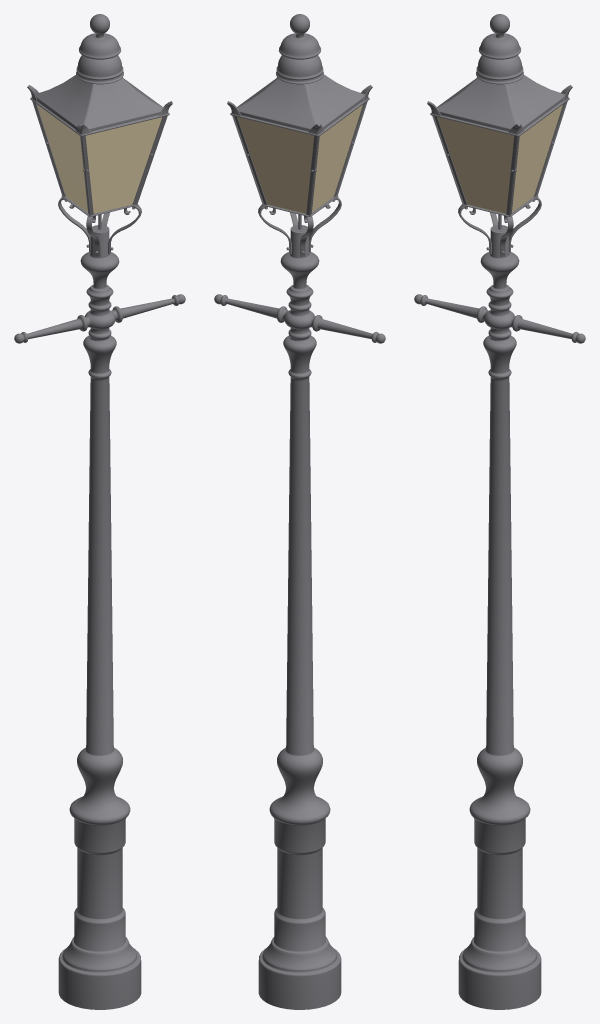
The model's file is prop-lamp.glb.
The picture shows the model from 3 angles, left to right: view 1: azimuth 30°, elevation 25°; view 2: azimuth 150°, elevation 25°; view 3: azimuth 330°, elevation 25°; orthographic projection.
Visible parts, largest first — view 1: street_lamp_01; view 2: street_lamp_01; view 3: street_lamp_01.
Part boxes in pixels (left/top/right/bottom): street_lamp_01: left=14, top=14, right=185, bottom=1009; street_lamp_01: left=214, top=14, right=385, bottom=1009; street_lamp_01: left=414, top=14, right=585, bottom=1009.
Size of the model in its own units: 0.7043 by 3.87 by 0.3865.
